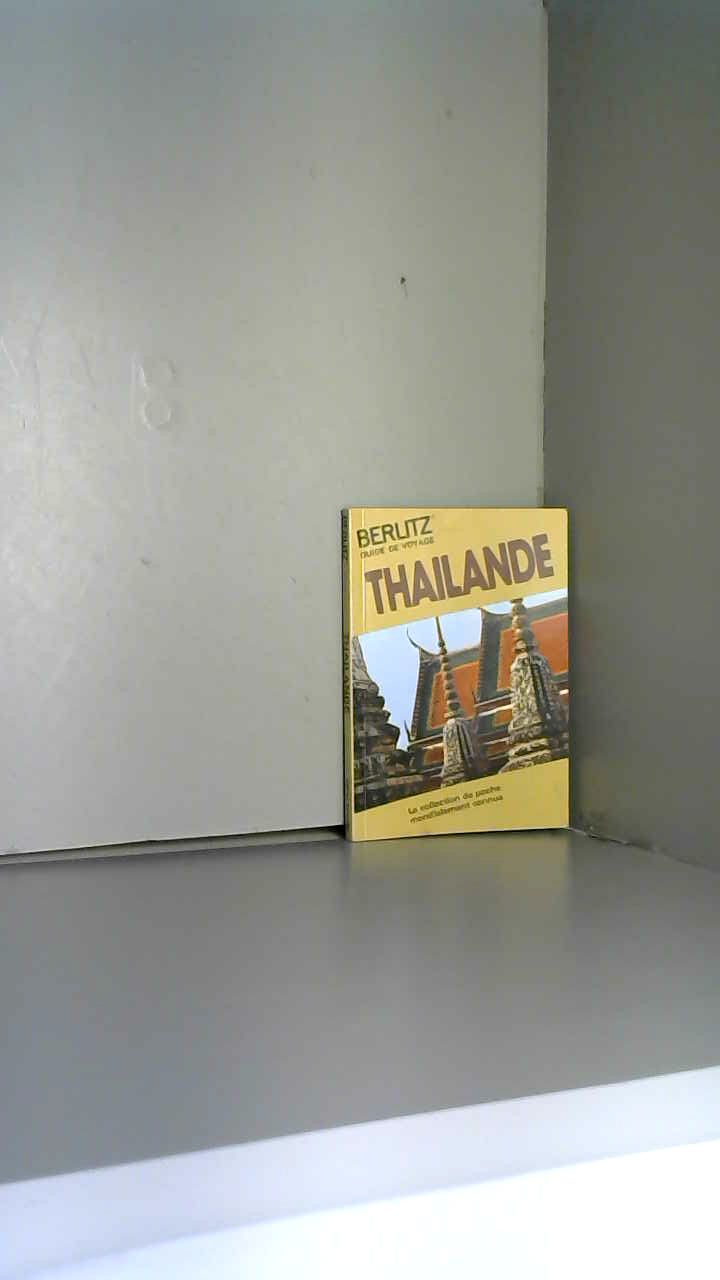book: (324, 488, 588, 858)
